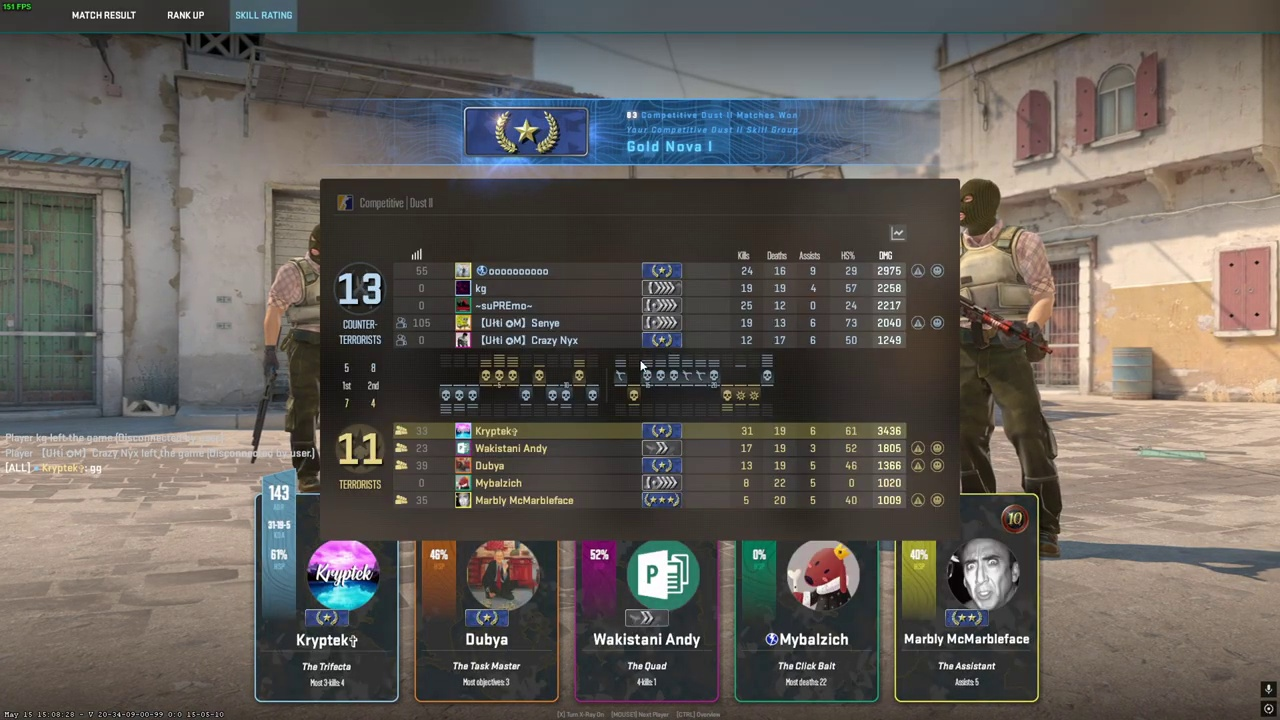Terrorist: (957, 178, 1059, 553), (267, 224, 322, 489)
